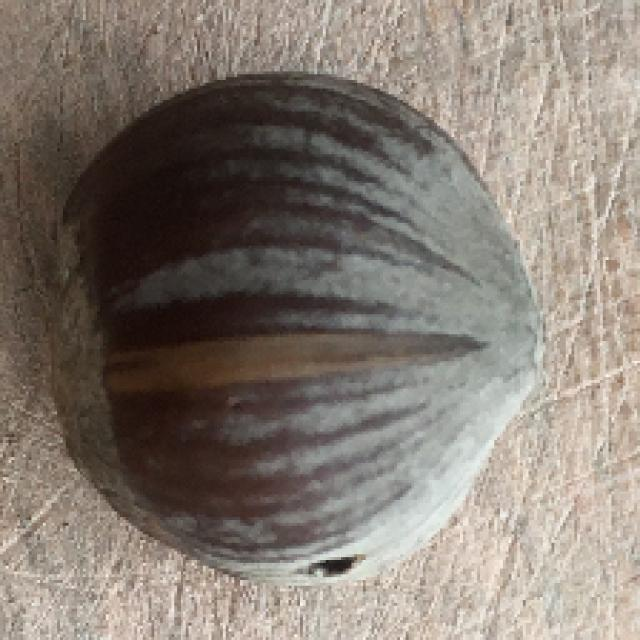damagedHazelnut: (35, 78, 546, 592)
